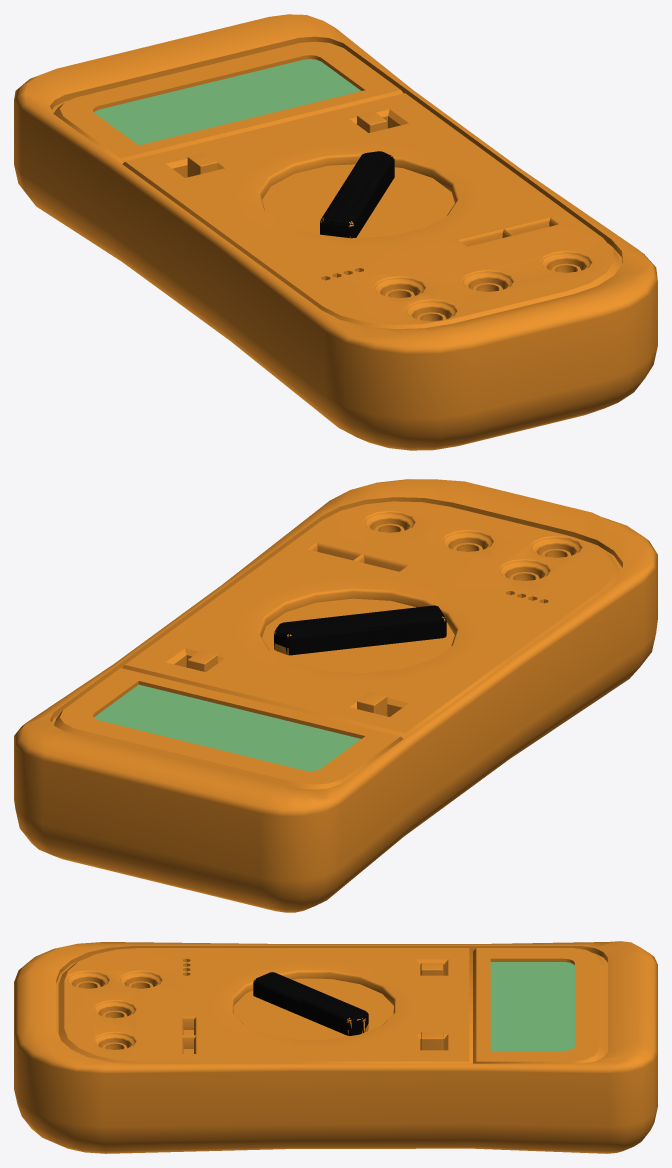
3 views of the same model, one above another, from view 1: azimuth 30°, elevation 25°; view 2: azimuth 150°, elevation 25°; view 3: azimuth 270°, elevation 25° (orthographic). The views are drawn at different scales.
Parts seen in each view (by area): view 1: MutliMeter, MutliMeter.001; view 2: MutliMeter, MutliMeter.001; view 3: MutliMeter, MutliMeter.001.
Part boxes in pixels (x1,y1,x2,y2): MutliMeter: (14, 14, 657, 450); MutliMeter.001: (320, 151, 394, 238); MutliMeter: (14, 479, 657, 912); MutliMeter.001: (274, 605, 446, 655); MutliMeter: (14, 941, 657, 1153); MutliMeter.001: (253, 972, 368, 1035).
Size of the model in its own units: 786 by 307 by 1649.
